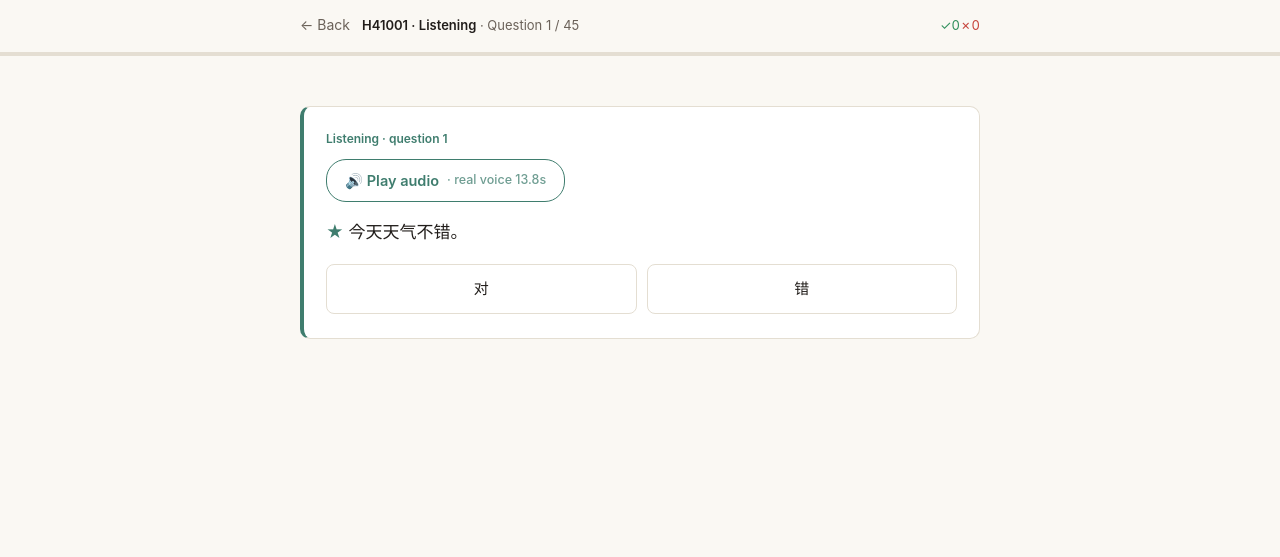
QuizShellComponent › advances to the next unit and resets the progress bar width
Click the button with class "optbtn" showing "对" at (481,288), box [326,264,636,314]
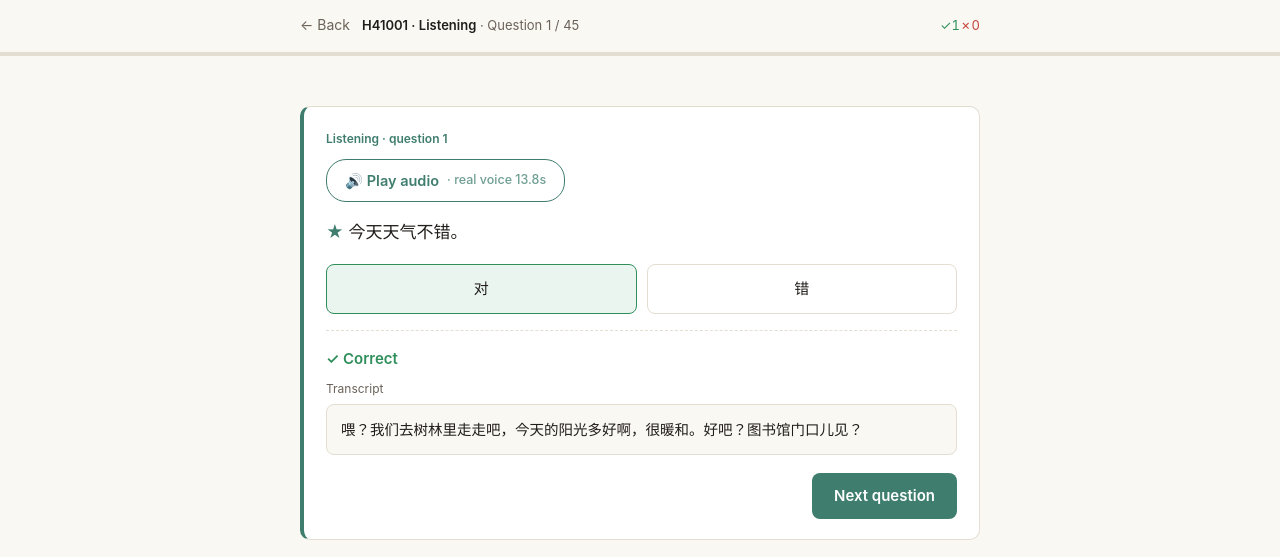
Click the button "Next question" at (884,496), box [812,473,957,519]
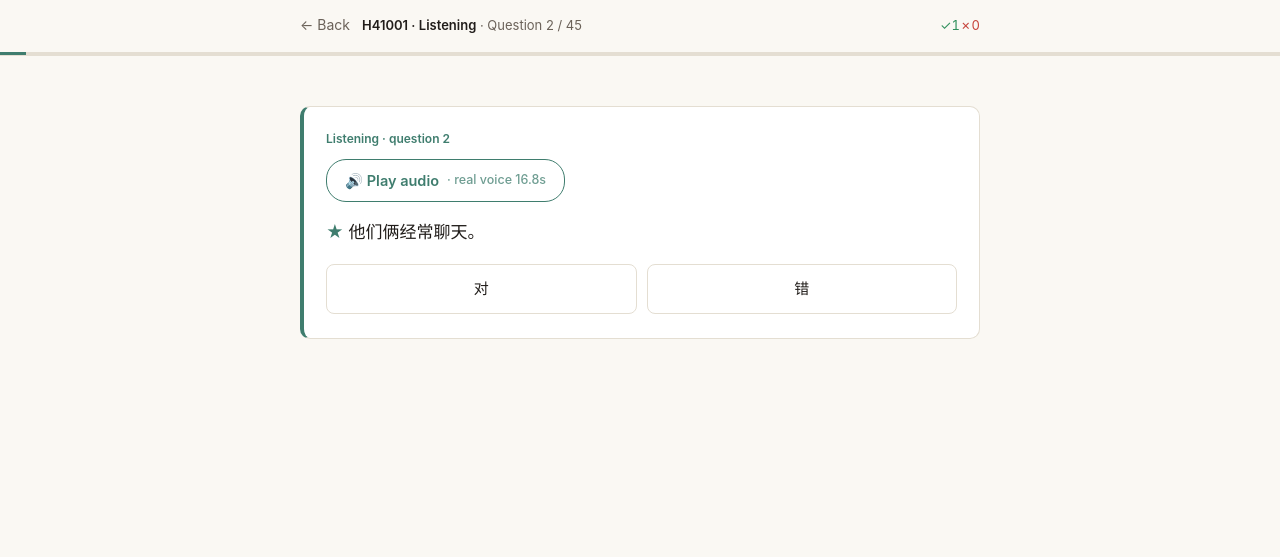
Expected: the element showing "H41001 · Listening · Question 2 / 45" is shown, [362,17,582,33]
Expected: the text with class "tag" reads "Listening · question 2", [326,131,450,146]
